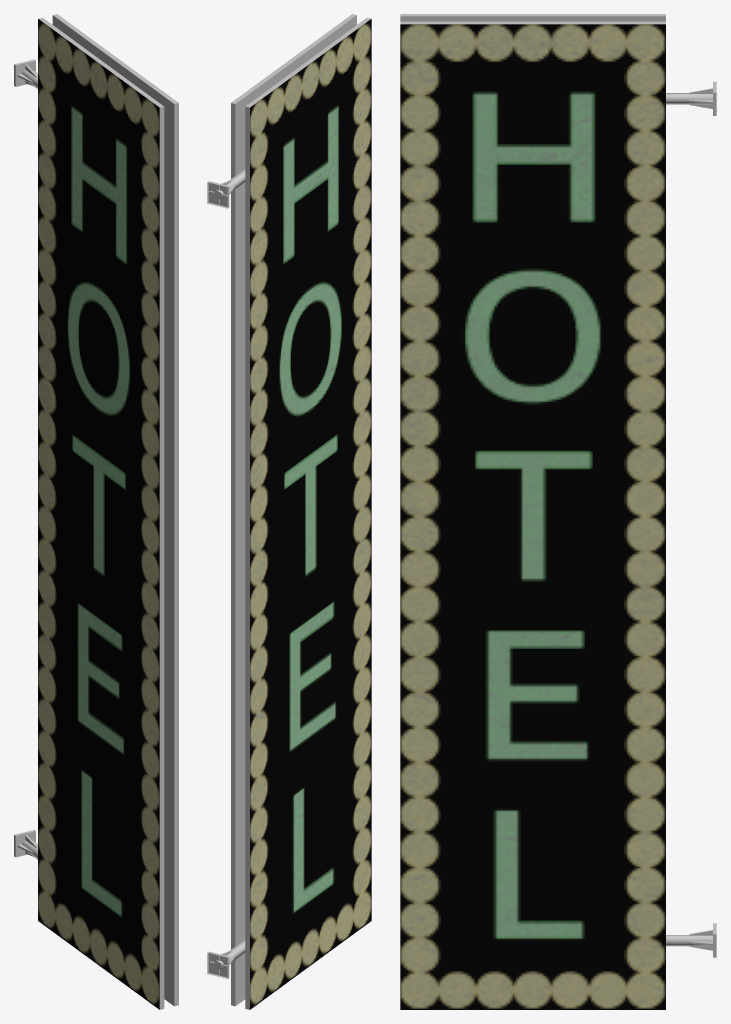
3 views of the same model, side by side, from view 1: azimuth 30°, elevation 25°; view 2: azimuth 150°, elevation 25°; view 3: azimuth 270°, elevation 25° (orthographic). The views are drawn at different scales.
Visible parts, largest first — view 1: bb_03_a; view 2: bb_03_a; view 3: bb_03_a.
Part boxes in pixels (x1,y1,x2,y2): bb_03_a: [14, 14, 178, 1009]; bb_03_a: [207, 14, 371, 1009]; bb_03_a: [400, 14, 716, 1009].
Size of the model in its own units: 0.2364 by 2.92 by 10.05.
